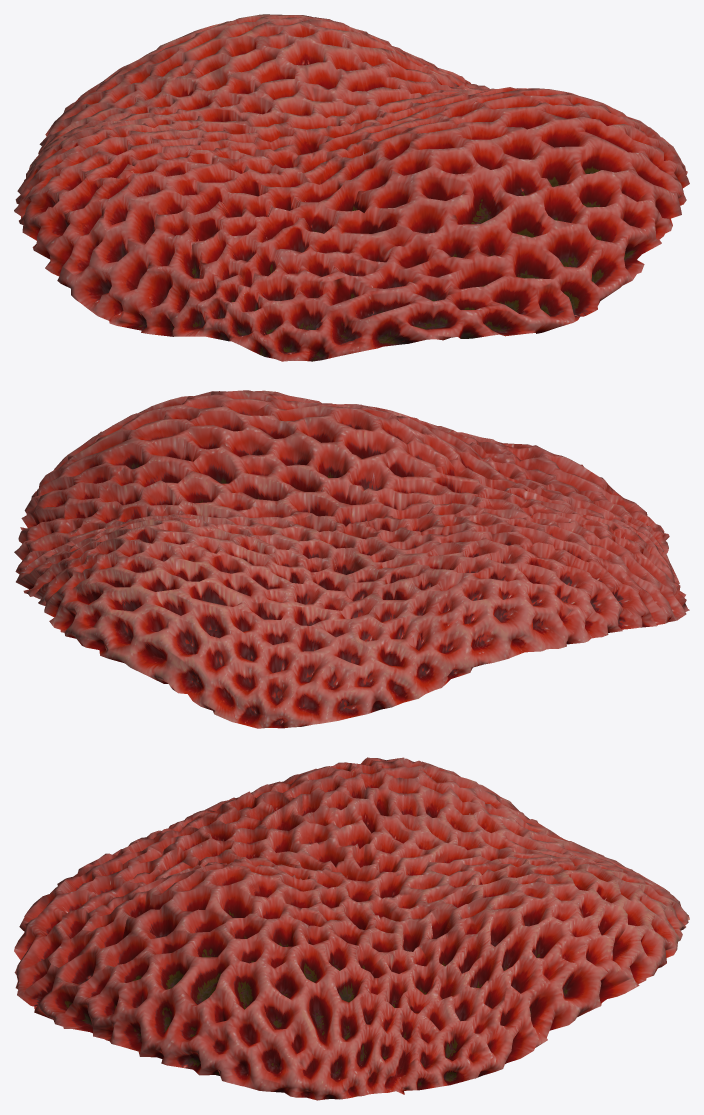
3 views of the same model, one above another, from view 1: azimuth 30°, elevation 25°; view 2: azimuth 150°, elevation 25°; view 3: azimuth 270°, elevation 25° (orthographic). The views are drawn at different scales.
Visible parts, largest first — view 1: Sphere.001; view 2: Sphere.001; view 3: Sphere.001.
Boxes of the visible parts, x1,y1,x2,y2 form: Sphere.001: (14, 14, 689, 361); Sphere.001: (14, 390, 689, 728); Sphere.001: (14, 757, 689, 1100).
Size of the model in its own units: 8.14 by 1.55 by 7.97.
Materials: 1 (1 with a texture image).
